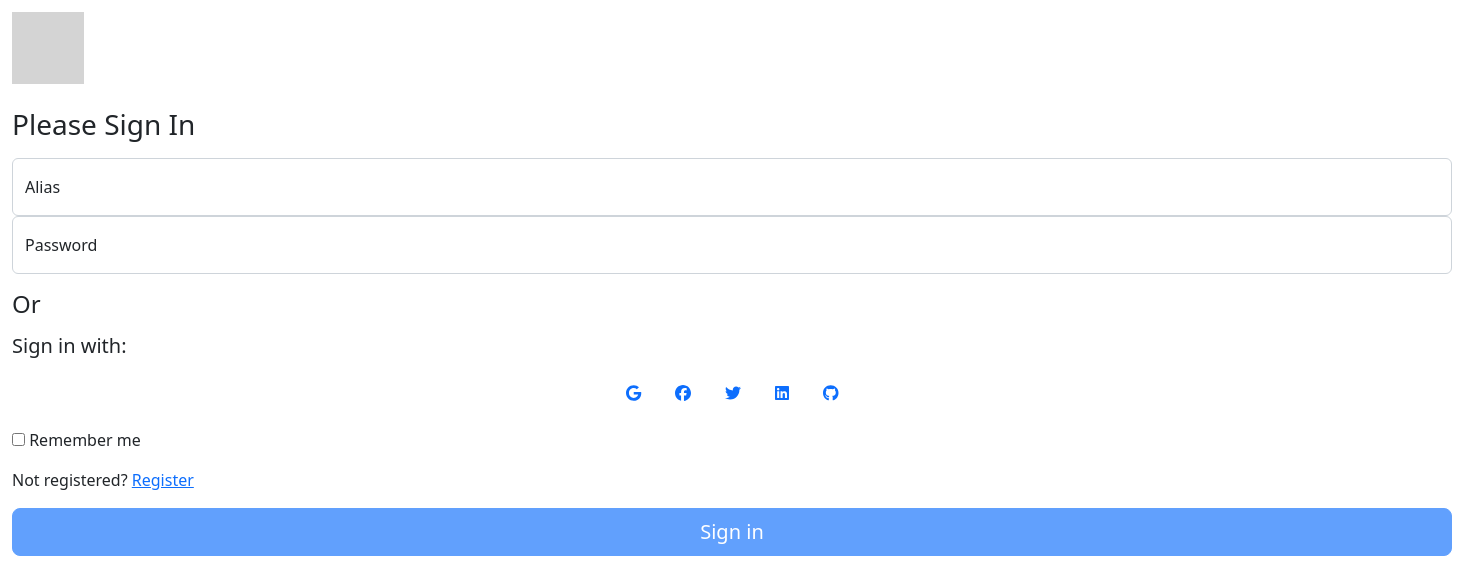
Login Component › should enable sign-in when both the alias and password fields have text
Type "@alias" into the field labelled "Alias" at [732, 187], box [12,158,1452,216]
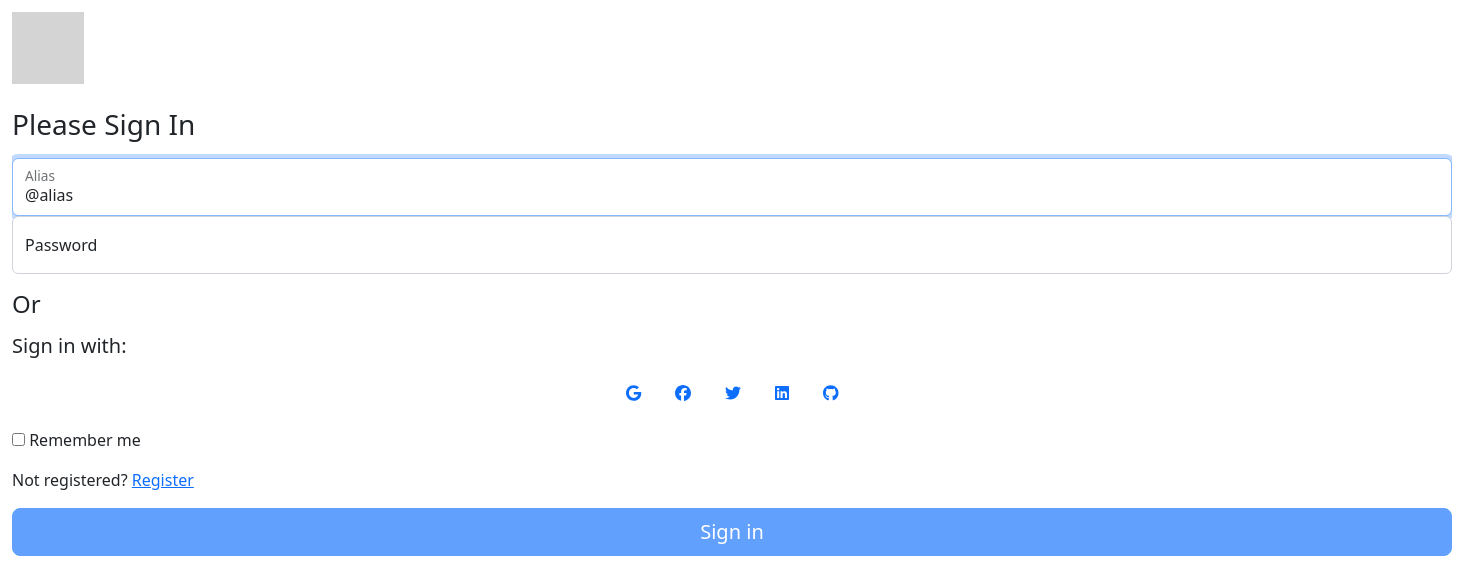
Type "password" into the password field labelled "Password" at [732, 245], box [12,216,1452,274]
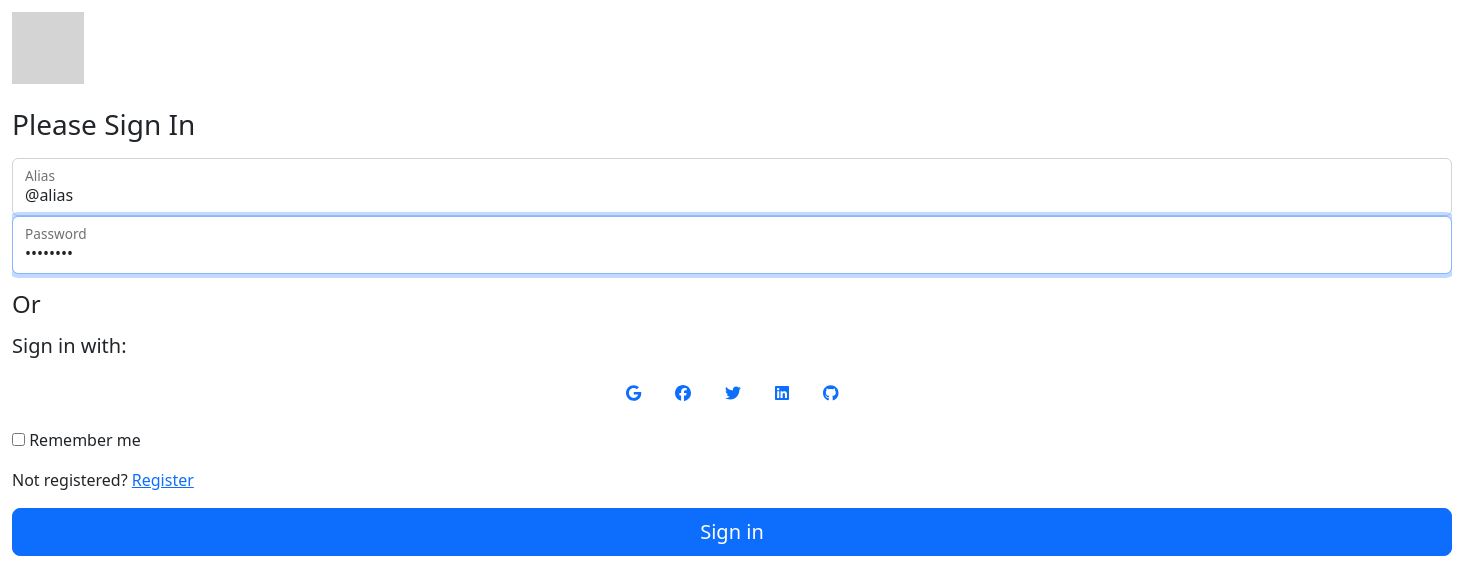
expect the button "Sign in" is enabled: met, box [12,508,1452,556]
